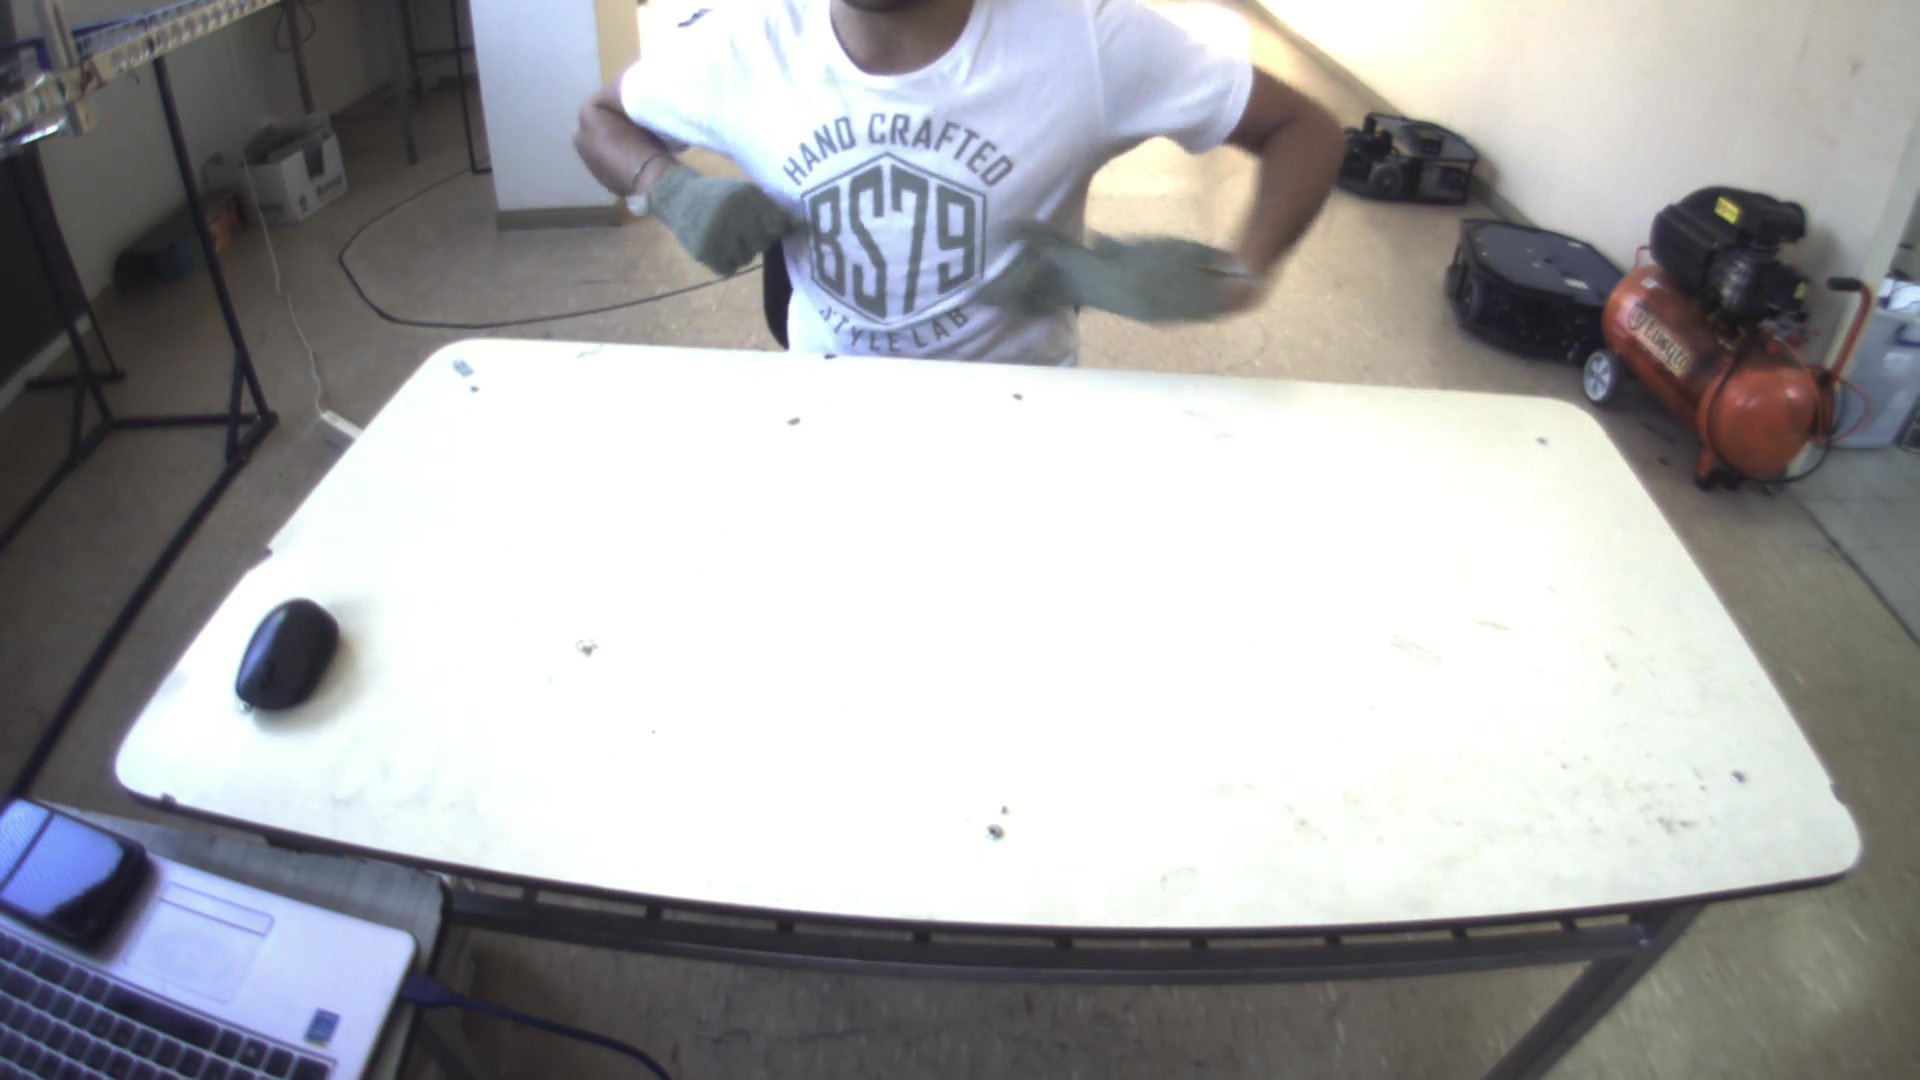hand: (617, 153, 807, 272)
